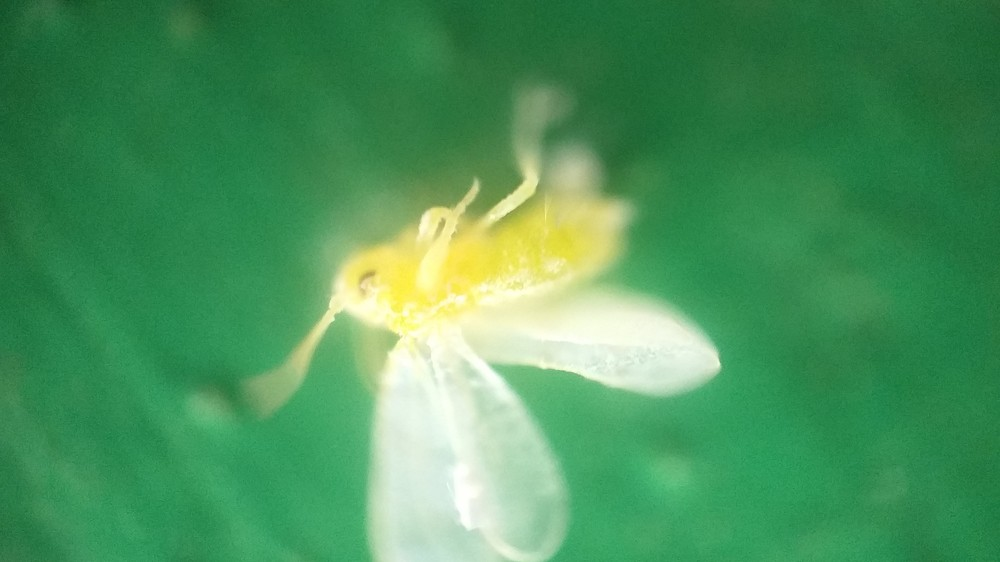Mosca Blanca: (245, 98, 737, 562)
